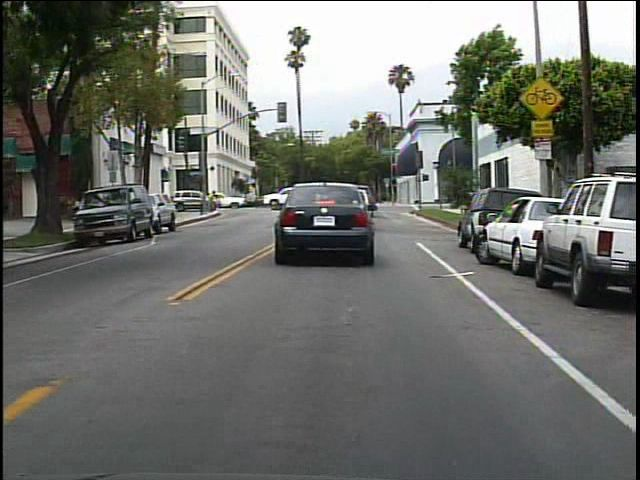person: (209, 189, 219, 211)
